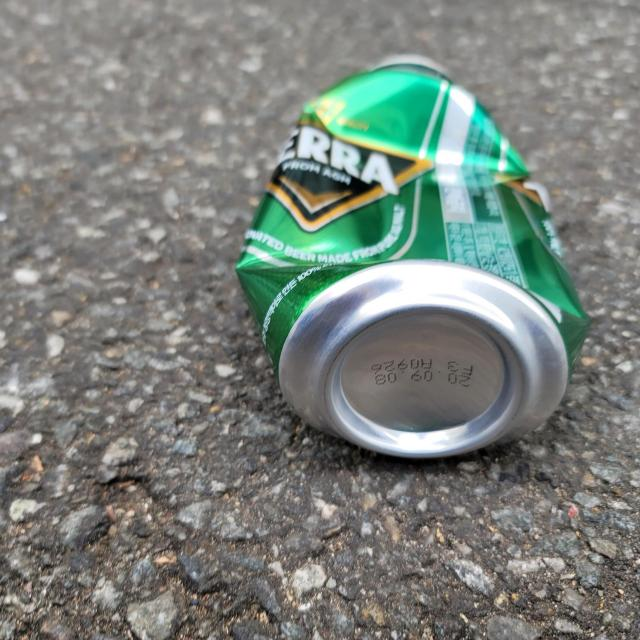can: (237, 55, 590, 458)
